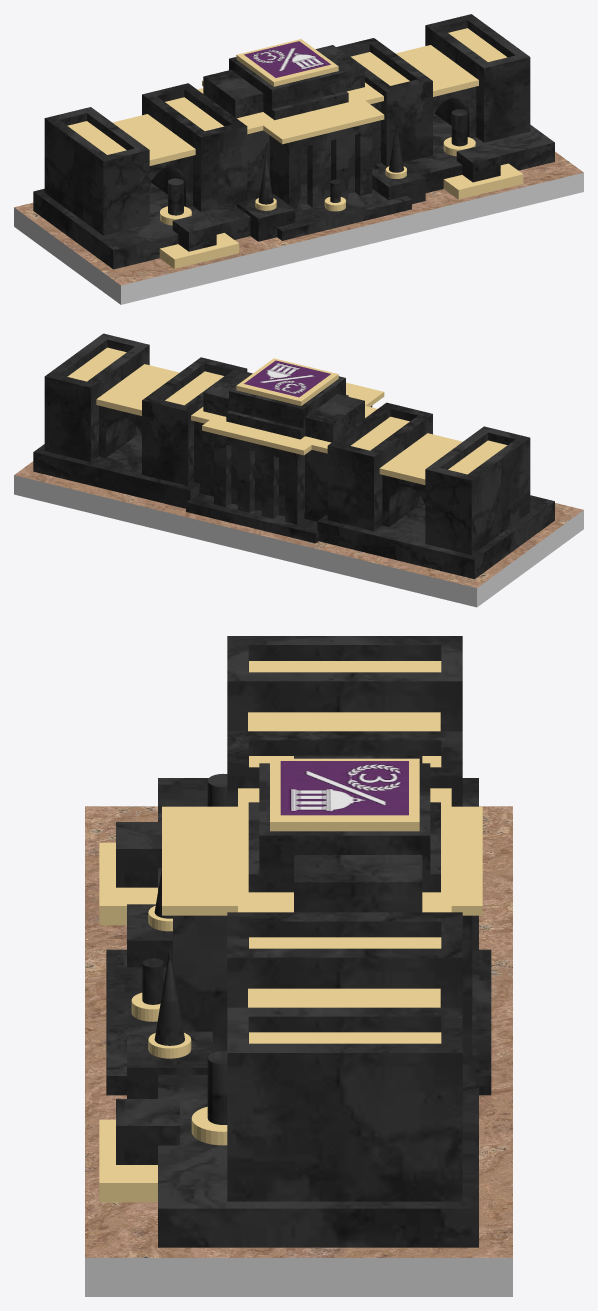
The model's file is buildingJardinLujoso.glb.
The picture shows the model from 3 angles, top to bottom: view 1: azimuth 30°, elevation 25°; view 2: azimuth 150°, elevation 25°; view 3: azimuth 270°, elevation 25°; orthographic projection. The views are drawn at different scales.
Visible parts, largest first — view 1: JardinLujoso; view 2: JardinLujoso; view 3: JardinLujoso.
Boxes of the visible parts, x1=… form: JardinLujoso: x1=14, y1=14, x2=583, y2=304; JardinLujoso: x1=14, y1=333, x2=583, y2=607; JardinLujoso: x1=85, y1=636, x2=512, y2=1296.
Size of the model in its own units: 5 by 1.46 by 2.
Materials: 5 (3 with a texture image).
